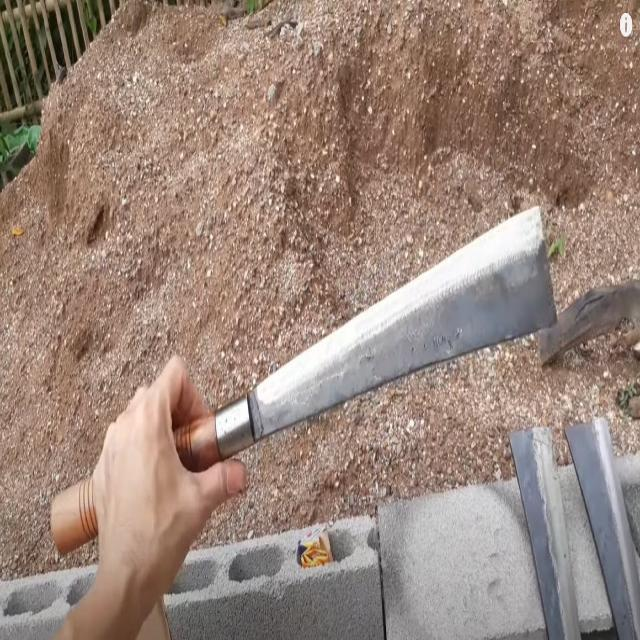eto: (46, 199, 560, 561)
